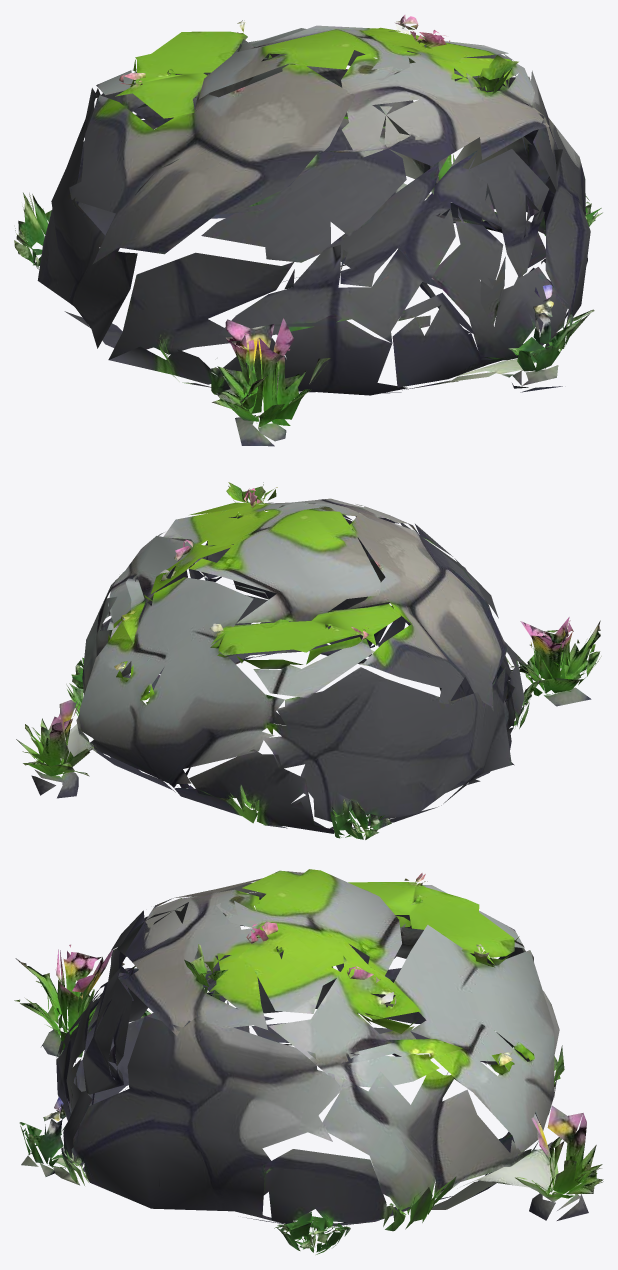
The model's file is koy_kaya.glb.
3 renders of one model, top to bottom at view 1: azimuth 30°, elevation 25°; view 2: azimuth 150°, elevation 25°; view 3: azimuth 270°, elevation 25°, orthographic. The views are drawn at different scales.
Visible parts, largest first — view 1: geometry_0; view 2: geometry_0; view 3: geometry_0.
Part boxes in pixels (x1,y1,x2,y2): geometry_0: (14, 15, 602, 446); geometry_0: (16, 482, 601, 839); geometry_0: (14, 869, 603, 1254).
Size of the model in its own units: 0.9176 by 0.464 by 0.9658.
Materials: 1 (1 with a texture image).
